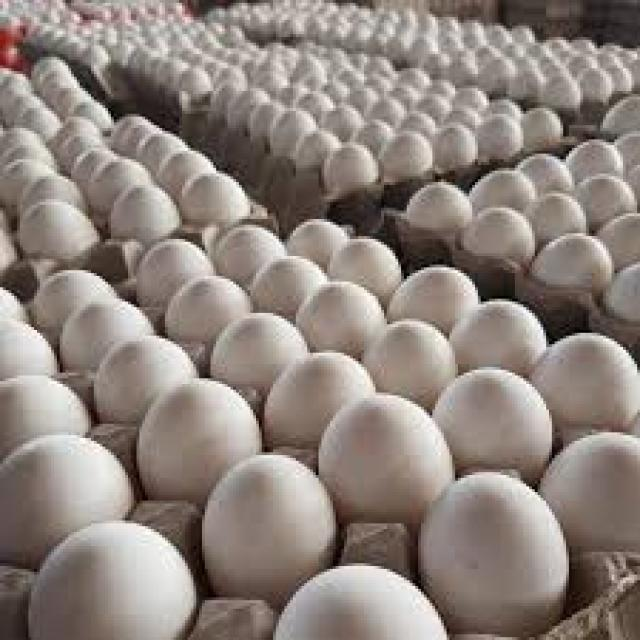White Egg: (414, 468, 574, 628), (8, 515, 202, 640), (198, 448, 336, 590), (310, 388, 460, 518), (142, 372, 264, 507), (0, 432, 134, 553), (268, 560, 447, 640), (431, 366, 556, 476), (537, 426, 640, 549), (526, 330, 640, 424), (262, 348, 375, 442), (94, 335, 199, 424), (450, 299, 548, 390), (356, 318, 456, 401), (60, 297, 155, 371), (298, 279, 387, 357), (212, 311, 307, 379), (0, 372, 92, 438), (166, 275, 252, 340), (388, 264, 481, 322), (136, 241, 216, 308), (527, 229, 615, 289), (13, 197, 100, 257), (458, 205, 536, 265), (108, 178, 182, 241), (255, 258, 330, 316), (180, 172, 256, 225), (400, 178, 474, 232), (222, 226, 284, 283), (2, 319, 60, 379), (289, 220, 354, 272), (323, 142, 381, 196)
